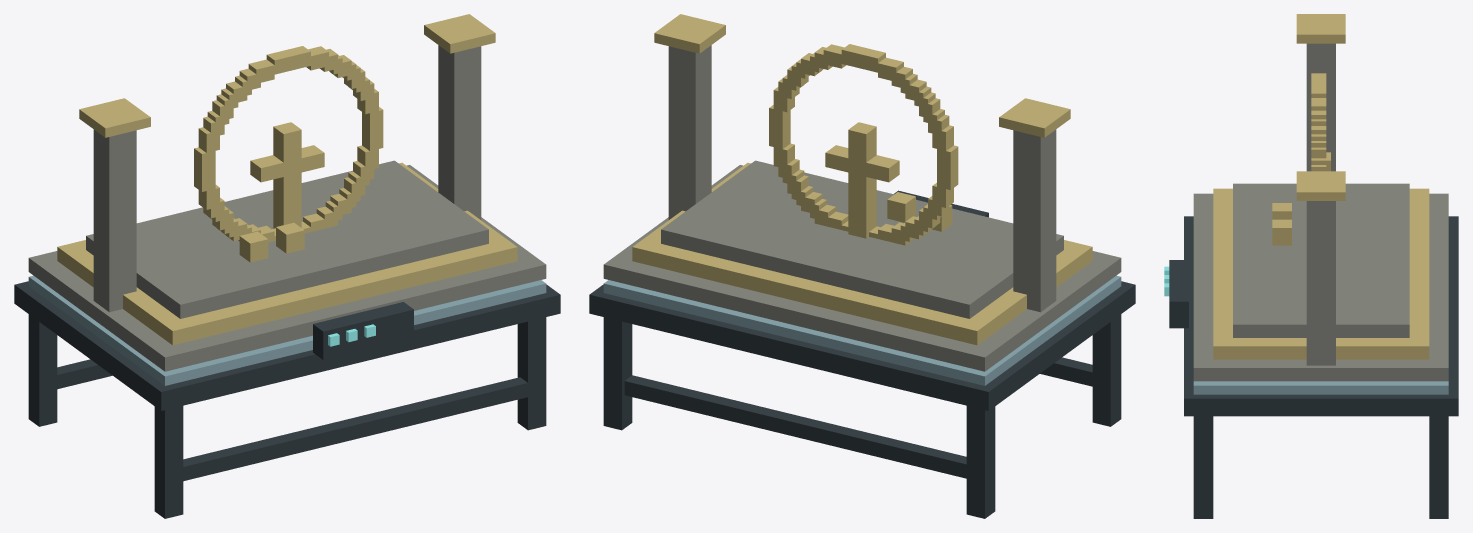
Rendered from sanctity_station_t8.glb.
3 renders of one model, left to right at view 1: azimuth 30°, elevation 25°; view 2: azimuth 150°, elevation 25°; view 3: azimuth 270°, elevation 25°, orthographic. The views are drawn at different scales.
Visible parts, largest first — view 1: sanctity_station_t8/work_surface, sanctity_station_t8/reliquary, sanctity_station_t8/frame; view 2: sanctity_station_t8/work_surface, sanctity_station_t8/reliquary, sanctity_station_t8/frame; view 3: sanctity_station_t8/work_surface, sanctity_station_t8/frame, sanctity_station_t8/reliquary.
Part boxes in pixels (x1=…): sanctity_station_t8/work_surface: x1=28, y1=160, x2=546, y2=385; sanctity_station_t8/reliquary: x1=79, y1=14, x2=495, y2=312; sanctity_station_t8/frame: x1=14, y1=281, x2=560, y2=518; sanctity_station_t8/work_surface: x1=603, y1=160, x2=1121, y2=385; sanctity_station_t8/reliquary: x1=654, y1=14, x2=1070, y2=312; sanctity_station_t8/frame: x1=589, y1=281, x2=1135, y2=518; sanctity_station_t8/work_surface: x1=1164, y1=183, x2=1448, y2=394; sanctity_station_t8/frame: x1=1184, y1=216, x2=1458, y2=518; sanctity_station_t8/reliquary: x1=1272, y1=14, x2=1345, y2=365.
Size of the model in its own units: 2.75 by 2.44 by 1.88.
